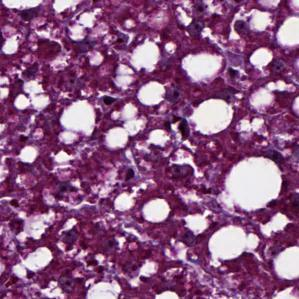steatosis: (218, 156, 286, 212)
